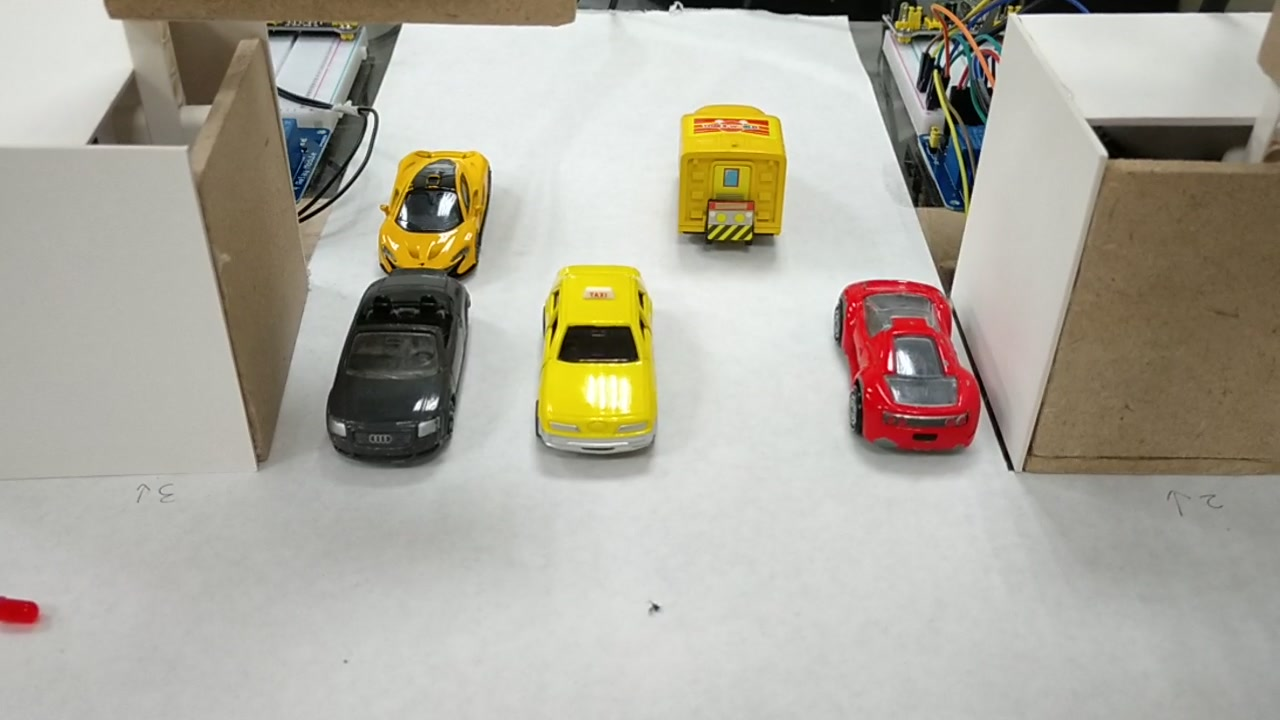car: (327, 270, 469, 454), (833, 284, 978, 457), (546, 260, 649, 456), (375, 153, 489, 272)
